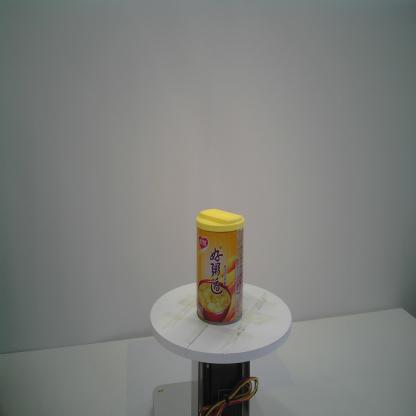Canned Food: (195, 207, 246, 326)
